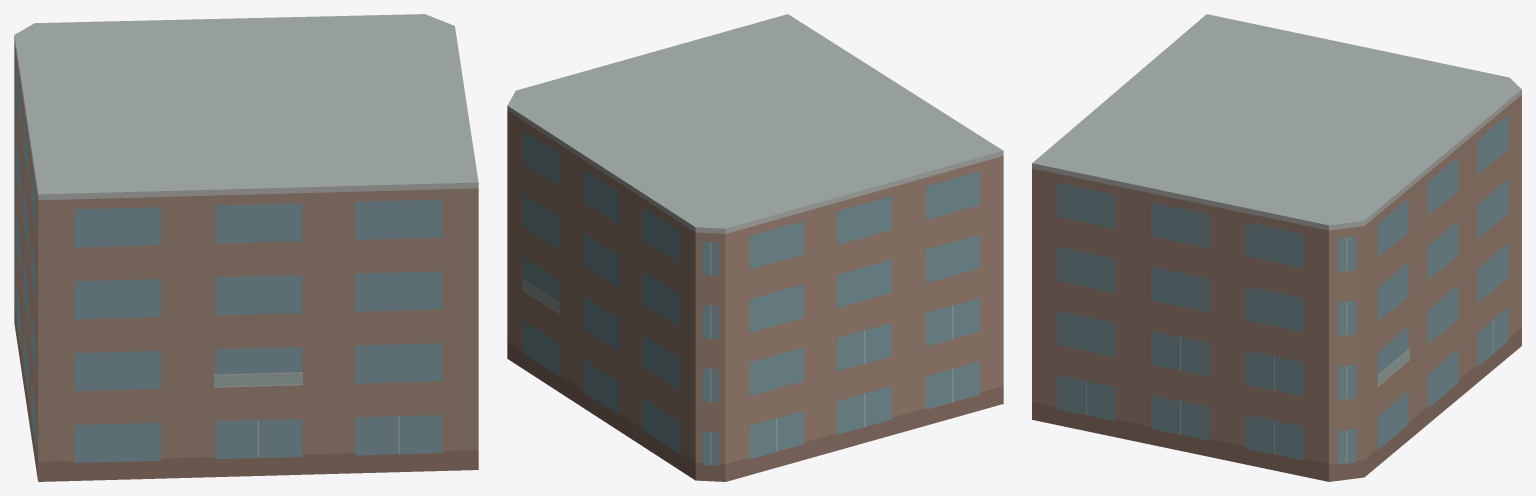
Rendered from residential-849b1514-e94f-42cb-8c4e-93681b61bad3.glb.
3 renders of one model, left to right at view 1: azimuth 30°, elevation 25°; view 2: azimuth 150°, elevation 25°; view 3: azimuth 270°, elevation 25°, orthographic. The views are drawn at different scales.
Visible parts, largest first — view 1: residential-849b1514-e94f-42cb-8c4e-93681b61bad3.tmp; view 2: residential-849b1514-e94f-42cb-8c4e-93681b61bad3.tmp; view 3: residential-849b1514-e94f-42cb-8c4e-93681b61bad3.tmp.
Part boxes in pixels (x1,y1,x2,y2): residential-849b1514-e94f-42cb-8c4e-93681b61bad3.tmp: (14, 14, 478, 481); residential-849b1514-e94f-42cb-8c4e-93681b61bad3.tmp: (507, 14, 1003, 481); residential-849b1514-e94f-42cb-8c4e-93681b61bad3.tmp: (1032, 14, 1521, 481).
Bounding box in the file's own units: 21.21 × 12 × 20.77.
